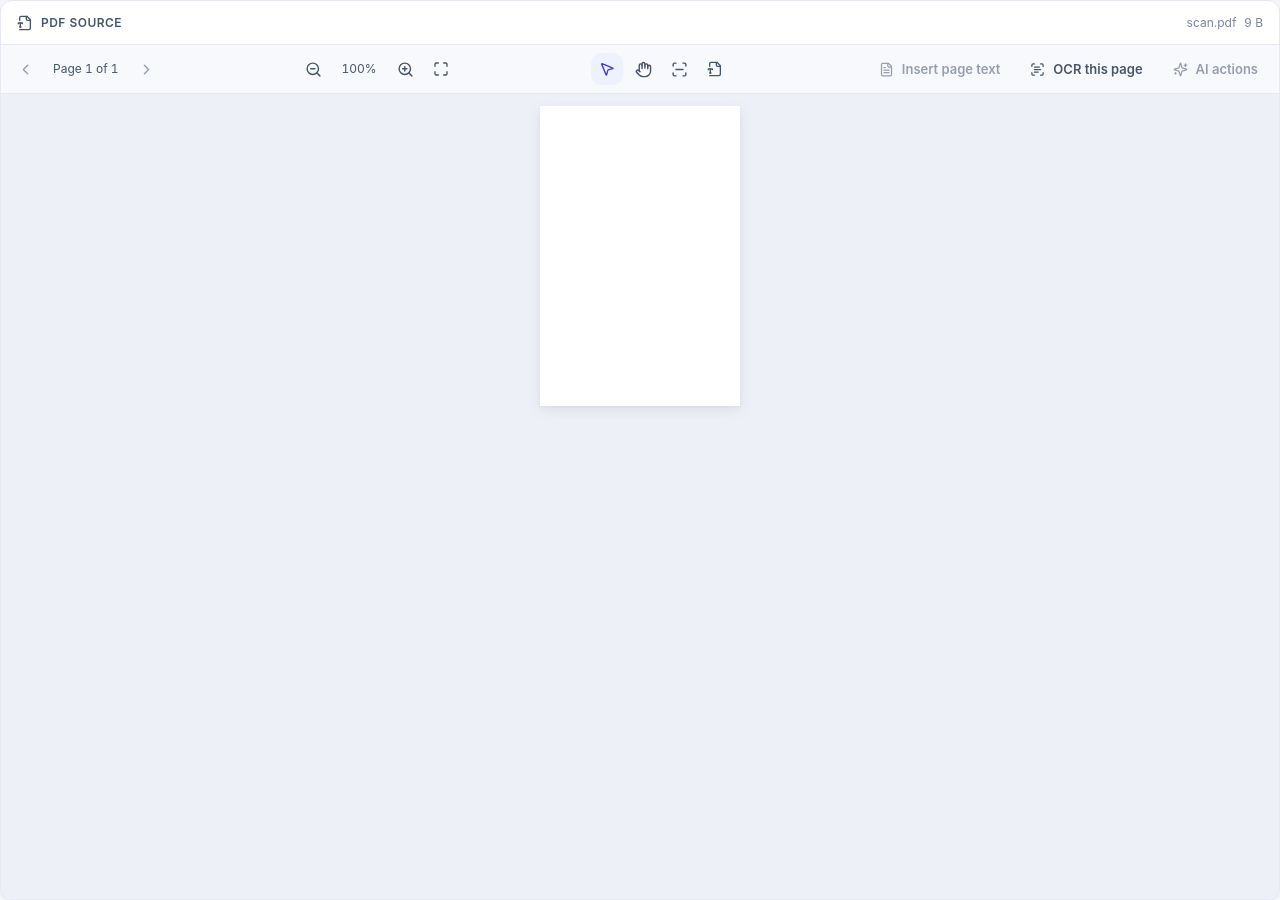
Test: SourcePanel PDF viewer › shows selected PDF text differently from region-selection mode
Click the button named "Select region".
click(679, 69)  # box [663,53,695,85]
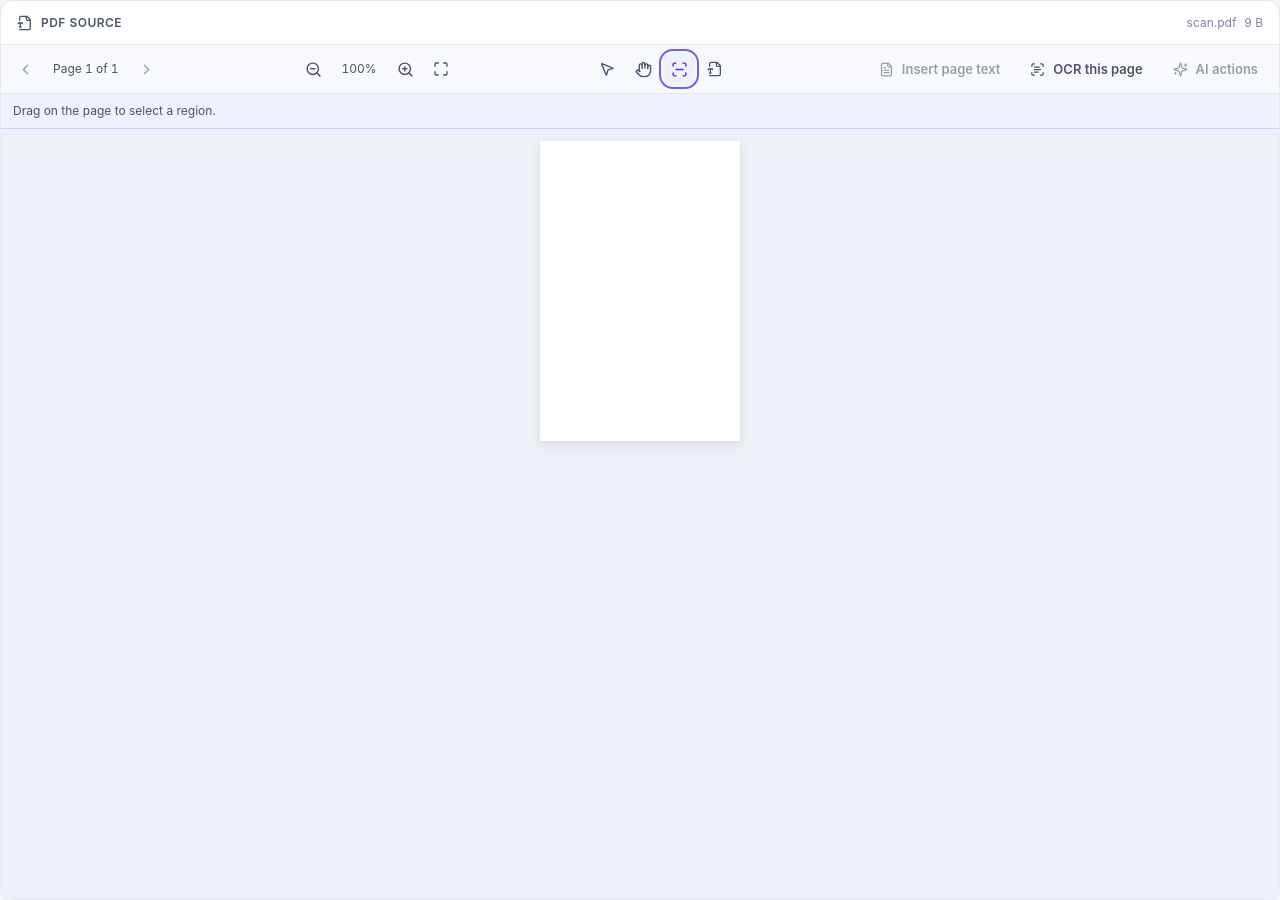
Check: the text "Drag on the page to select a region." is shown, box [13,102,216,120]
